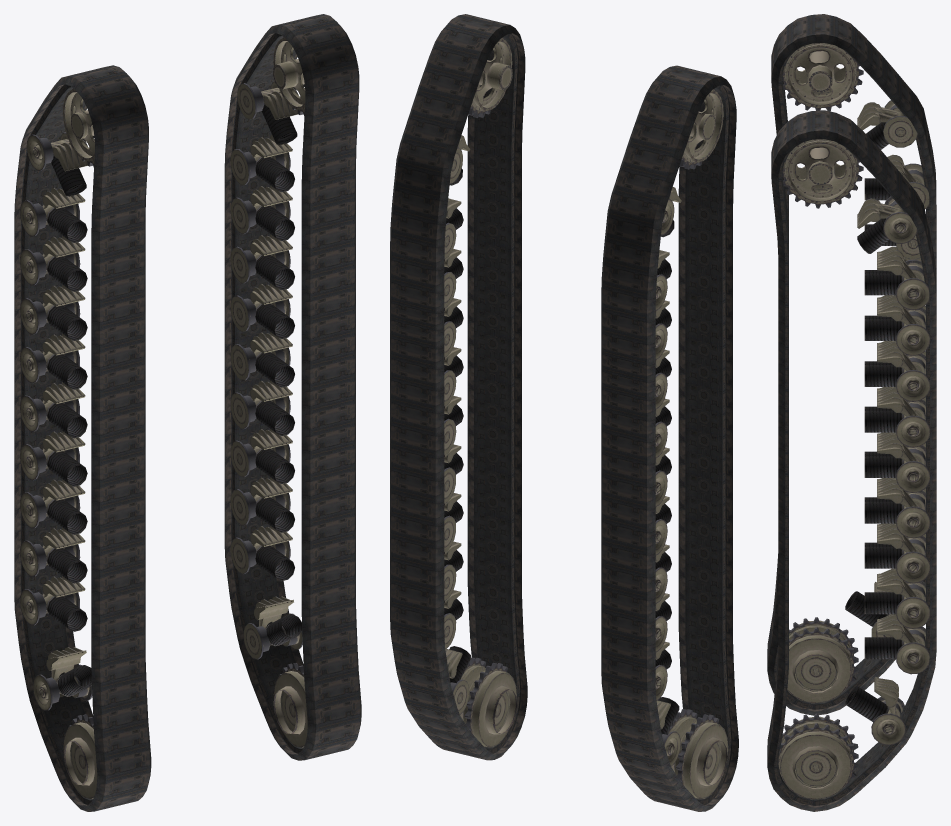
File: Chassis.glb
The picture shows the model from 3 angles, left to right: view 1: azimuth 30°, elevation 25°; view 2: azimuth 150°, elevation 25°; view 3: azimuth 270°, elevation 25°; orthographic projection. The views are drawn at different scales.
Parts seen in each view (by area): view 1: set_0_group_0, set_1_group_0, set_5_group_0, set_3_group_0, set_2_group_0, set_4_group_0; view 2: set_0_group_0, set_1_group_0, set_5_group_0, set_3_group_0; view 3: set_5_group_0, set_1_group_0, set_3_group_0, set_0_group_0, set_4_group_0.
Part boxes in pixels (x1=…): set_0_group_0: x1=14, y1=65, x2=151, y2=811; set_1_group_0: x1=224, y1=14, x2=361, y2=760; set_5_group_0: x1=230, y1=37, x2=307, y2=747; set_3_group_0: x1=20, y1=88, x2=97, y2=798; set_2_group_0: x1=42, y1=593, x2=87, y2=631; set_4_group_0: x1=252, y1=544, x2=294, y2=580; set_0_group_0: x1=601, y1=65, x2=738, y2=811; set_1_group_0: x1=390, y1=14, x2=527, y2=760; set_5_group_0: x1=444, y1=37, x2=517, y2=747; set_3_group_0: x1=655, y1=89, x2=728, y2=798; set_5_group_0: x1=778, y1=139, x2=929, y2=799; set_1_group_0: x1=767, y1=110, x2=936, y2=811; set_3_group_0: x1=782, y1=43, x2=929, y2=703; set_0_group_0: x1=767, y1=14, x2=936, y2=715; set_4_group_0: x1=864, y1=627, x2=916, y2=658.
Bounding box in the file's own units: 2.74 × 7.19 × 1.62.
Materials: 6 (6 with a texture image).
